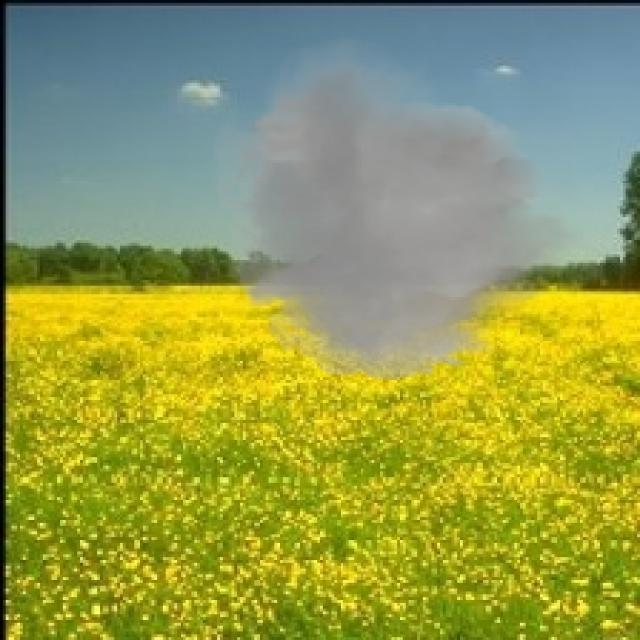smoke: (197, 34, 592, 389)
